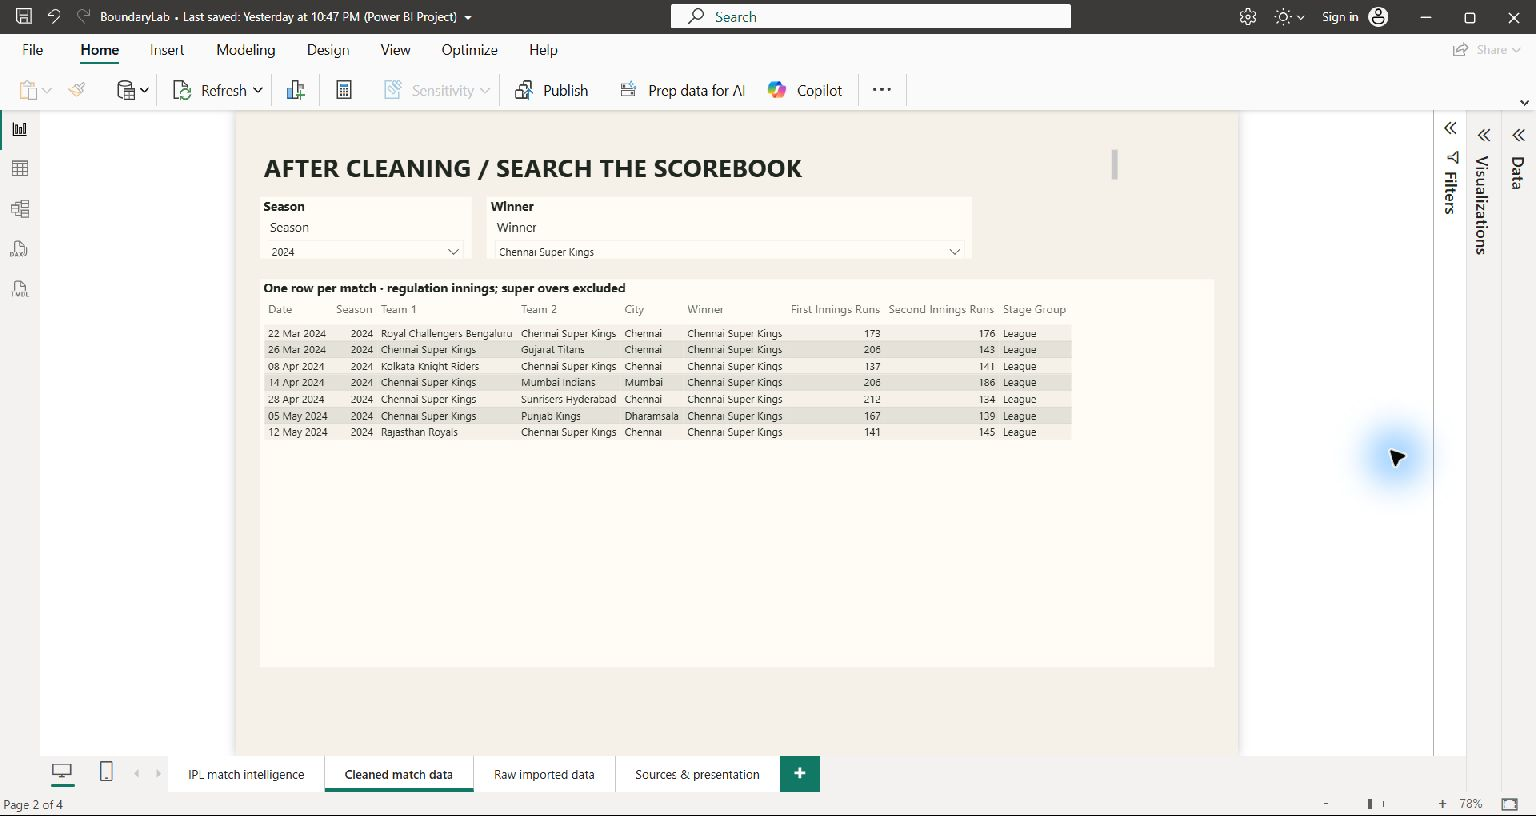

The page's visual inventory and layout, read from the dashboard file:
{"tool":"powerbi","page":{"name":"Cleaned match data","canvas":[1280,800],"ordinal":1},"visuals":[{"type":"textbox","box":[30,20,1100,50],"z":0},{"type":"slicer","title":"Season","fields":{"Values":["Matches.Season"]},"box":[30,85,270,78],"z":1},{"type":"slicer","title":"Winner","fields":{"Values":["Matches.Winner"]},"box":[320,85,620,78],"z":2},{"type":"tableEx","title":"One row per match · regulation innings; super overs excluded","fields":{"Values":["Matches.Date","Matches.Season","Matches.Team 1","Matches.Team 2","Matches.City","Matches.Winner","Matches.First Innings Runs","Matches.Second Innings Runs","Matches.Stage Group"]},"box":[30,190,1218,495],"z":3}]}

Visuals, with their boxes on the page's 1280x800 design canvas (x1, y1, x2, y2). These are canvas units, not pixel positions in the 1536x816 screenshot, which may show the page scaled, cropped or inside an application window:
textbox: crop(30, 20, 1130, 70)
"Season" slicer: crop(30, 85, 300, 163)
"Winner" slicer: crop(320, 85, 940, 163)
"One row per match · regulation innings; super overs excluded" tableEx: crop(30, 190, 1248, 685)
